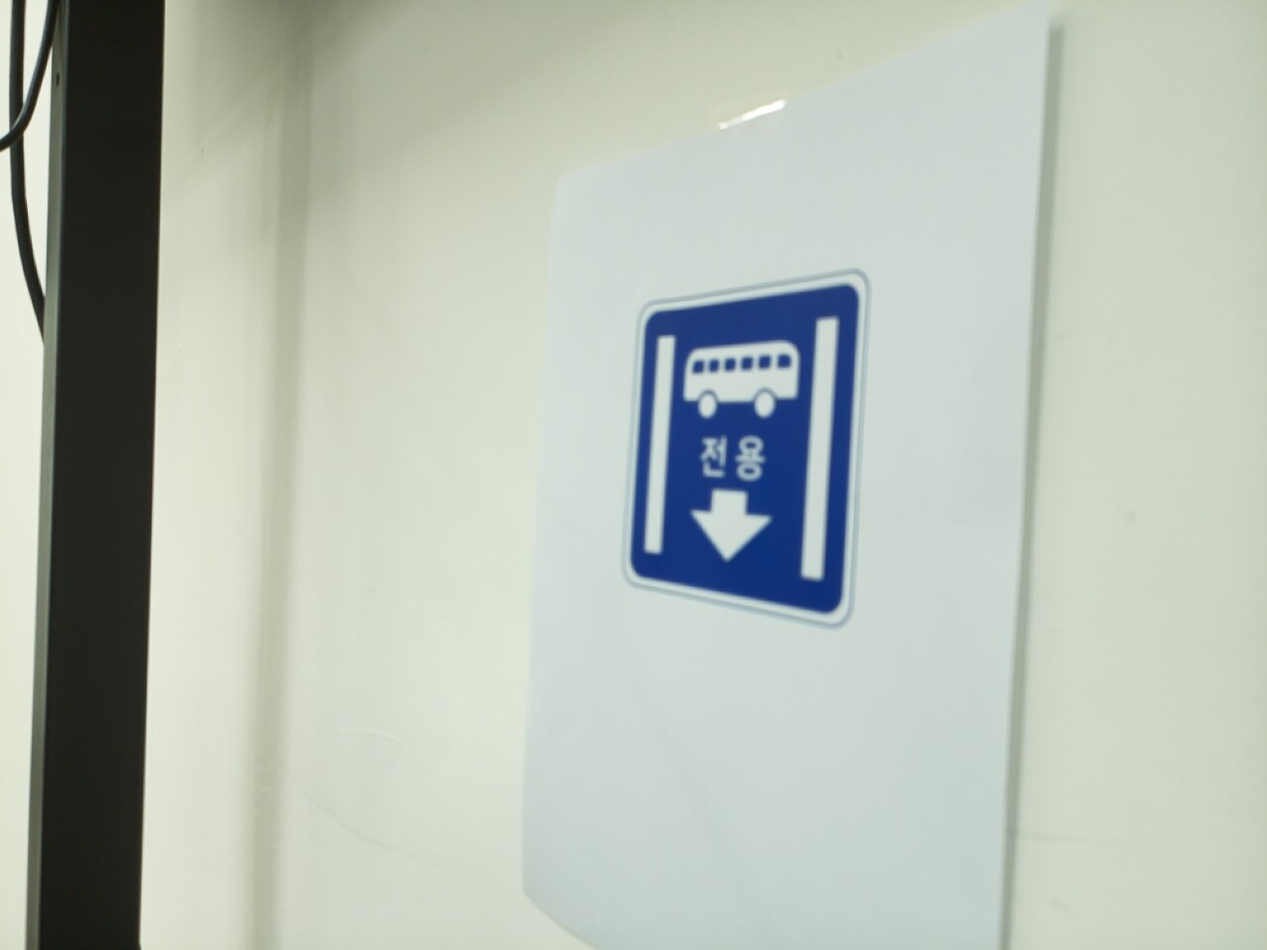bus_only_lane: (623, 274, 867, 623)
